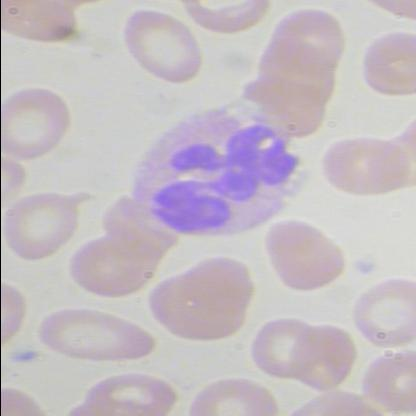Platelets: (8, 343, 42, 369)
RBC: (146, 248, 260, 344), (32, 304, 154, 373), (312, 131, 415, 205), (110, 5, 204, 86), (255, 217, 349, 298), (1, 180, 92, 263), (64, 231, 162, 305), (345, 272, 415, 353), (242, 312, 320, 384), (0, 84, 70, 163), (354, 25, 416, 100), (177, 1, 273, 38)
WBC: (124, 100, 312, 245)
